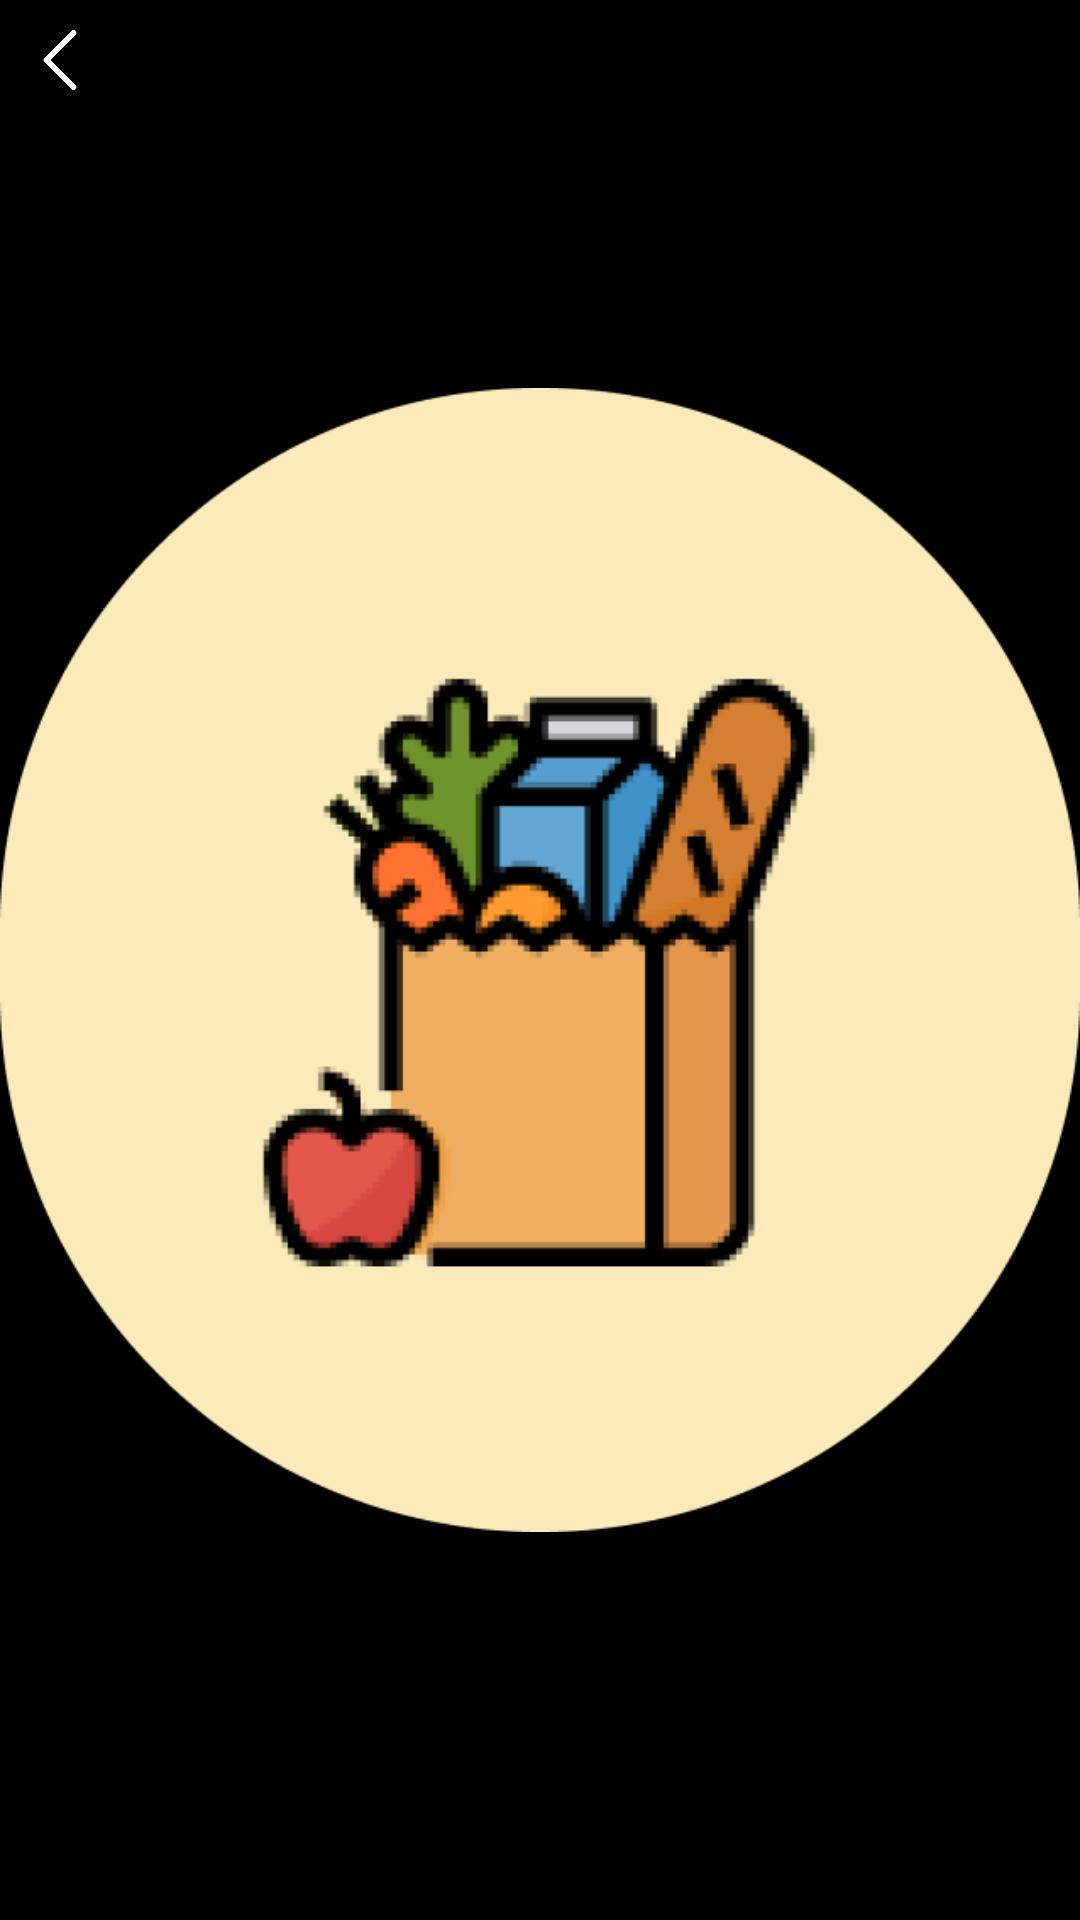

Point at icon controls on the screen. Image size 1080px x 1920px, points as (x,y).
backbtn: (60,60)
